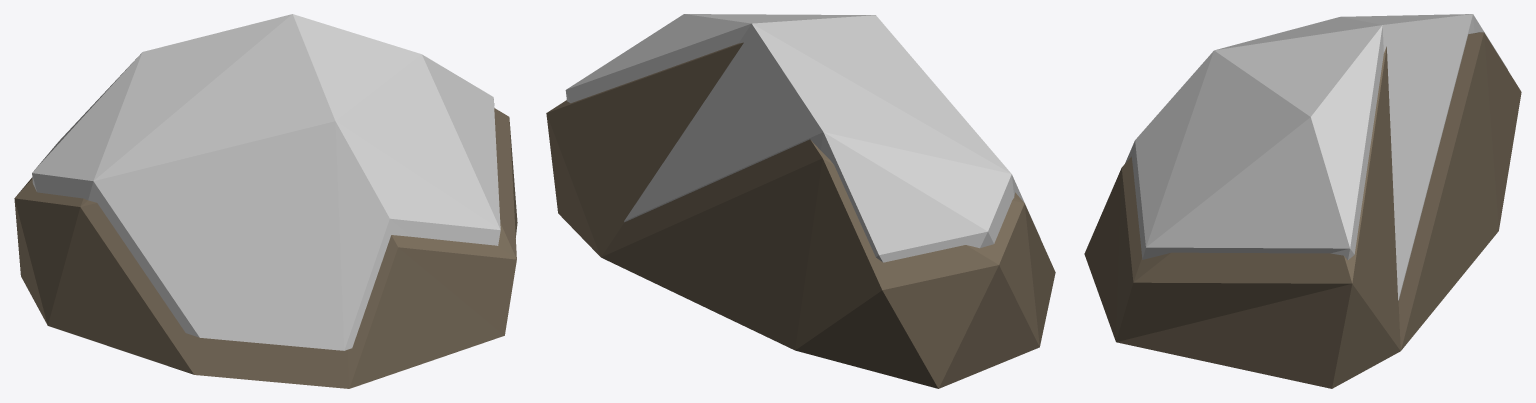
The model's file is Stone_1_snow_brown_vc.fbx.
3 views of the same model, side by side, from view 1: azimuth 30°, elevation 25°; view 2: azimuth 150°, elevation 25°; view 3: azimuth 270°, elevation 25° (orthographic). The views are drawn at different scales.
Parts seen in each view (by area): view 1: Stone_1_snow_brown_vc; view 2: Stone_1_snow_brown_vc; view 3: Stone_1_snow_brown_vc.
Part boxes in pixels (x1,y1,x2,y2): Stone_1_snow_brown_vc: (14,14,517,388); Stone_1_snow_brown_vc: (546,14,1055,388); Stone_1_snow_brown_vc: (1084,14,1521,388).
Size of the model in its own units: 51.15 by 27.07 by 39.42.
